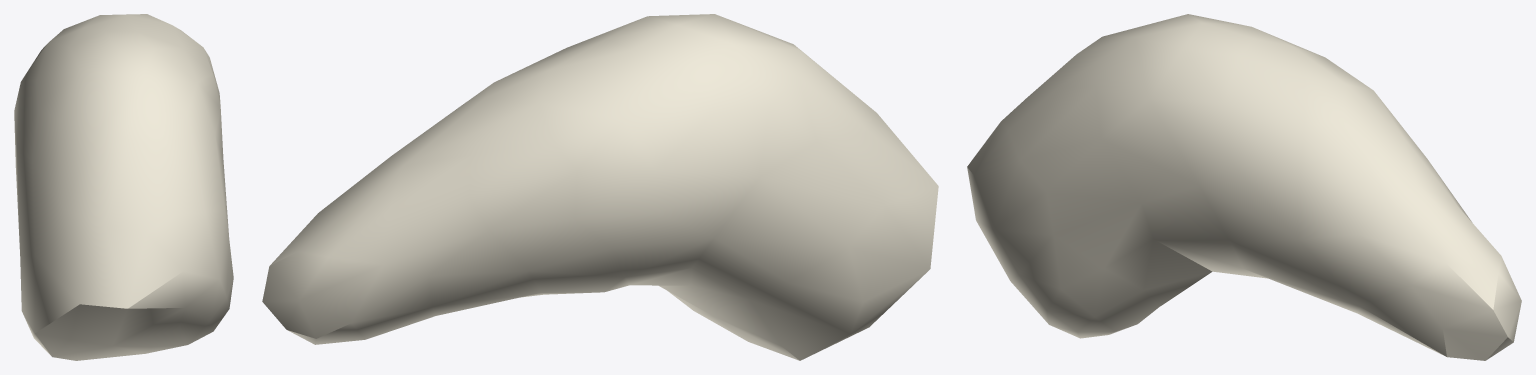
File: fma55115_mm1171m.glb
The picture shows the model from 3 angles, left to right: view 1: azimuth 30°, elevation 25°; view 2: azimuth 150°, elevation 25°; view 3: azimuth 270°, elevation 25°; orthographic projection. The views are drawn at different scales.
Visible parts, largest first — view 1: FMA55115_MM1171M; view 2: FMA55115_MM1171M; view 3: FMA55115_MM1171M.
Boxes of the visible parts, left/top/right/bottom form: FMA55115_MM1171M: left=14, top=14, right=233, bottom=360; FMA55115_MM1171M: left=262, top=14, right=938, bottom=360; FMA55115_MM1171M: left=967, top=14, right=1521, bottom=360.
Size of the model in its own units: 0.00257 by 0.00198 by 0.00313.
